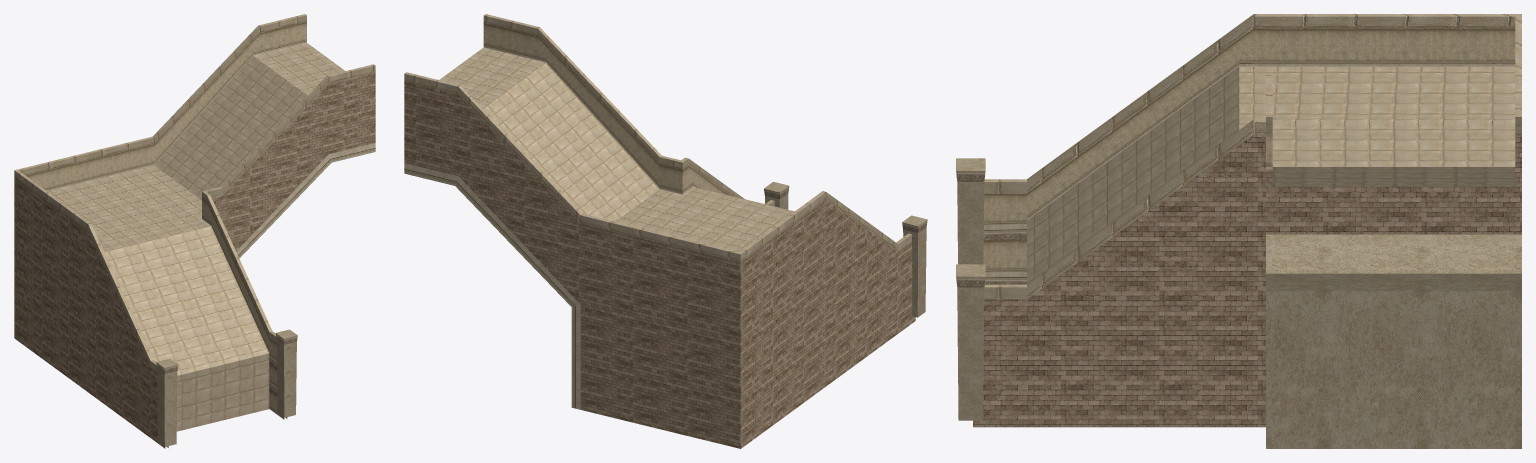
The model's file is thm_nboo_imprv_bridge_stairs_s02_l1.fbx.
3 views of the same model, side by side, from view 1: azimuth 30°, elevation 25°; view 2: azimuth 150°, elevation 25°; view 3: azimuth 270°, elevation 25° (orthographic). The views are drawn at different scales.
Parts seen in each view (by area): view 1: mesh_node; view 2: mesh_node; view 3: mesh_node.
Part boxes in pixels (x1,y1,x2,y2): mesh_node: [14, 14, 375, 448]; mesh_node: [404, 14, 927, 448]; mesh_node: [956, 14, 1521, 448].
Bounding box in the file's own units: 12.64 × 10.32 × 11.5.
Materials: 4 (4 with a texture image).
